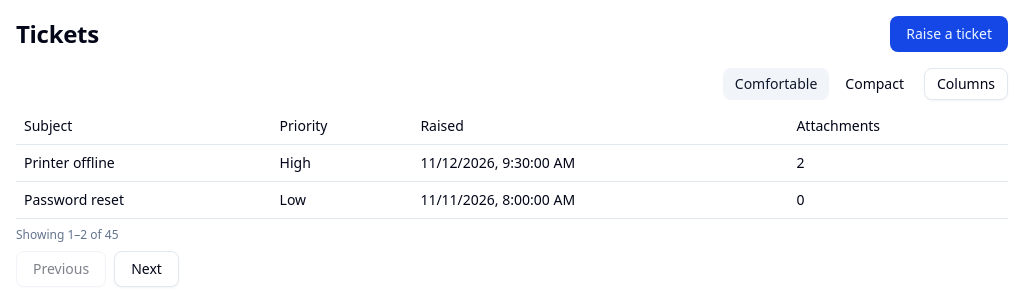
above twenty tickets the list pages through them twenty at a time
Expected: the navigation bar named "Pages" is shown, [16, 251, 179, 287]
Expected: the button "Previous" is disabled, [16, 251, 106, 287]
Click the button "Next".
click(146, 269)  # box [114, 251, 179, 287]
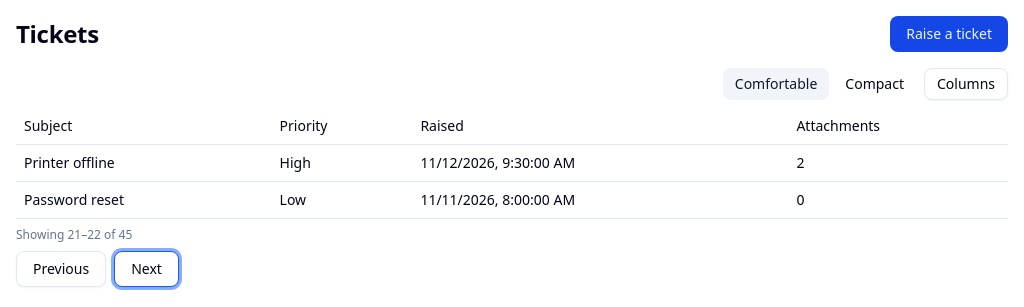
Expected: the button "Previous" is enabled, [16, 251, 106, 287]
